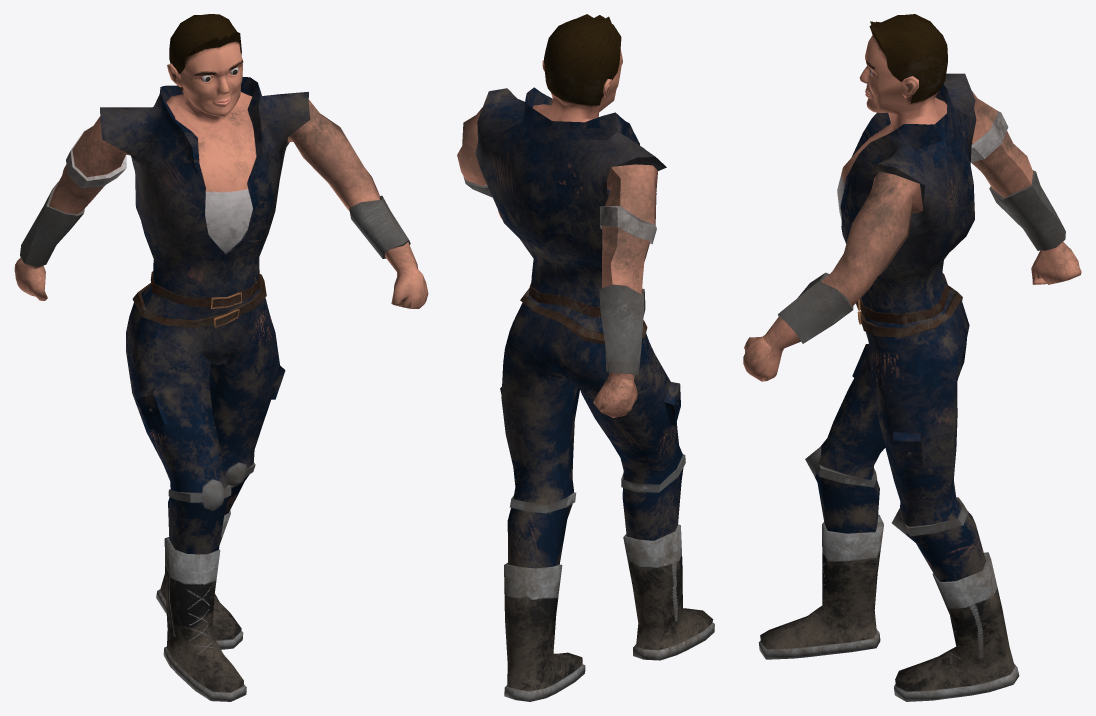
The model's file is Anim_andar_jugador.0023.obj.
3 views of the same model, side by side, from view 1: azimuth 30°, elevation 25°; view 2: azimuth 150°, elevation 25°; view 3: azimuth 270°, elevation 25° (orthographic). The views are drawn at different scales.
Parts seen in each view (by area): view 1: Anim_andar_jugador; view 2: Anim_andar_jugador; view 3: Anim_andar_jugador.
Boxes of the visible parts, x1,y1,x2,y2 form: Anim_andar_jugador: [14, 14, 428, 701]; Anim_andar_jugador: [457, 14, 714, 701]; Anim_andar_jugador: [743, 14, 1081, 701].
Size of the model in its own units: 4.32 by 9.63 by 4.43.
